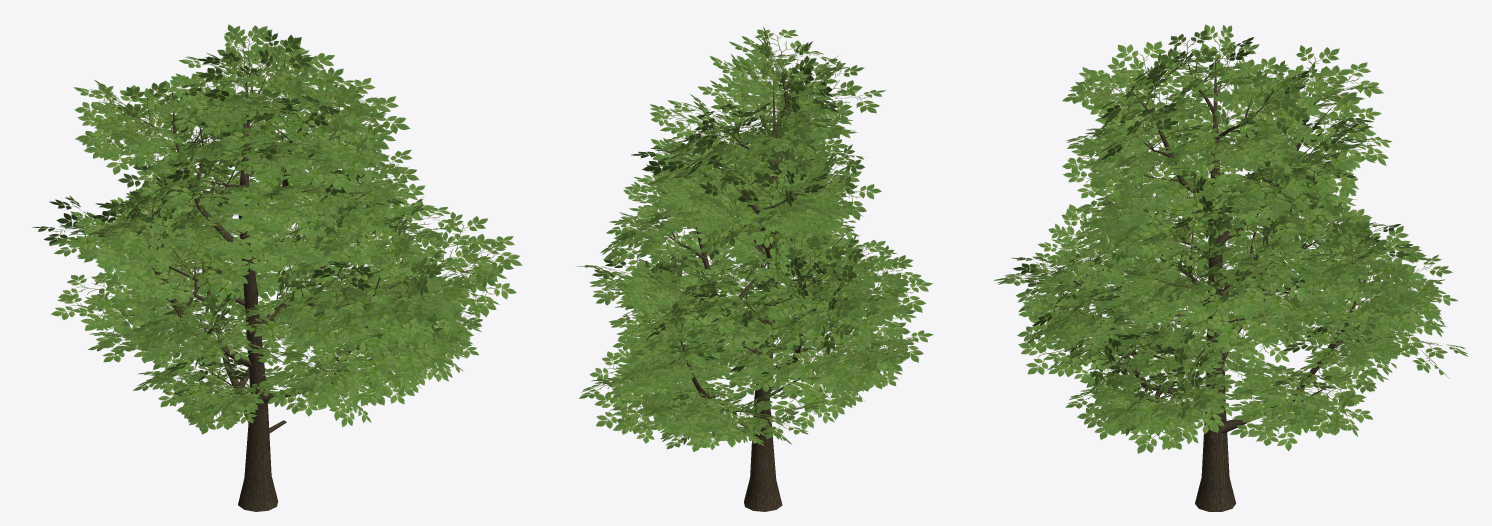
The model's file is tree1.glb.
The picture shows the model from 3 angles, left to right: view 1: azimuth 30°, elevation 25°; view 2: azimuth 150°, elevation 25°; view 3: azimuth 270°, elevation 25°; orthographic projection. The views are drawn at different scales.
Parts seen in each view (by area): view 1: flg_tree_03; view 2: flg_tree_03; view 3: flg_tree_03.
Part boxes in pixels (x1,y1,x2,y2): flg_tree_03: [32, 24, 522, 511]; flg_tree_03: [576, 26, 933, 511]; flg_tree_03: [993, 24, 1468, 511].
Size of the model in its own units: 14.8 by 16.96 by 15.8.
2 materials, 2 textured.
